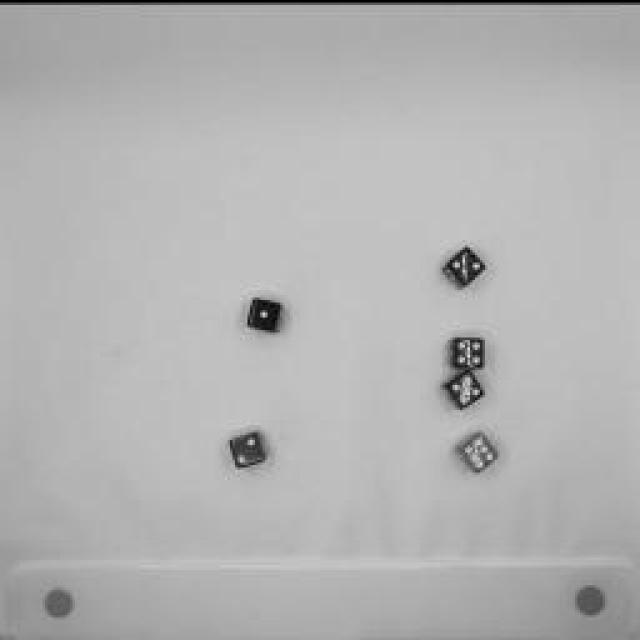dice_1: (242, 290, 288, 335)
dice_2: (436, 240, 494, 290), (222, 424, 270, 471)
dice_4: (444, 328, 488, 370)
dice_5: (436, 365, 492, 410)
dice_6: (445, 423, 503, 475)
